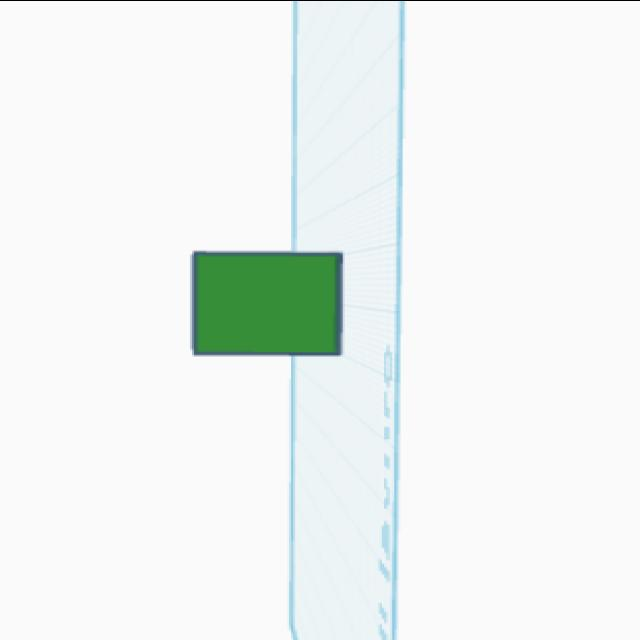cube: (182, 246, 352, 362)
